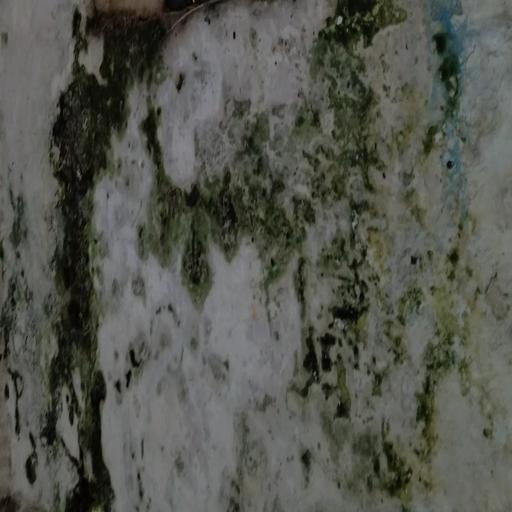algae: (32, 8, 436, 512)
